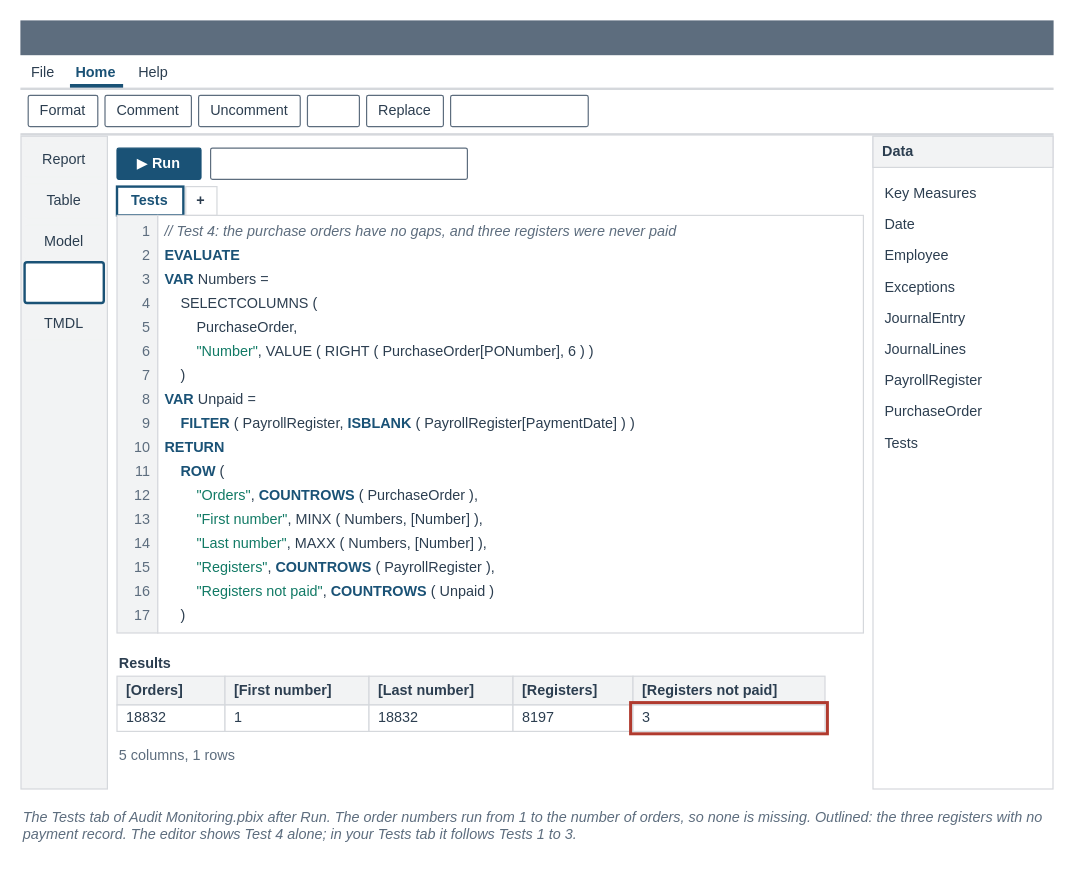
Image size: 1074x872. Some labels were removed from this diagram. The shapes that lost their labels are listed below. From the top down, each one's centre as x and y in pixels, then its label:
At point 536,37: "Audit Monitoring - Power BI Desktop".
At point 332,110: "Find".
At point 518,110: "Command palette".
At point 338,163: "Update model with changes (0)".
At point 63,282: "DAX query".
